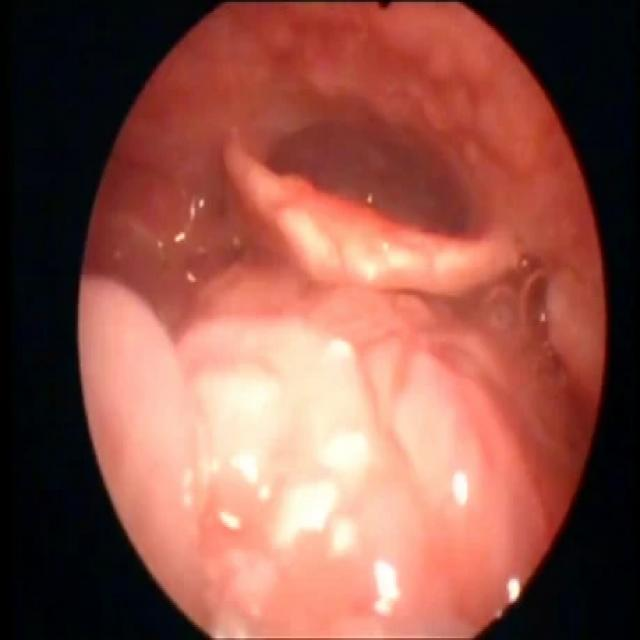epiglottisrotation: (218, 126, 517, 298)
